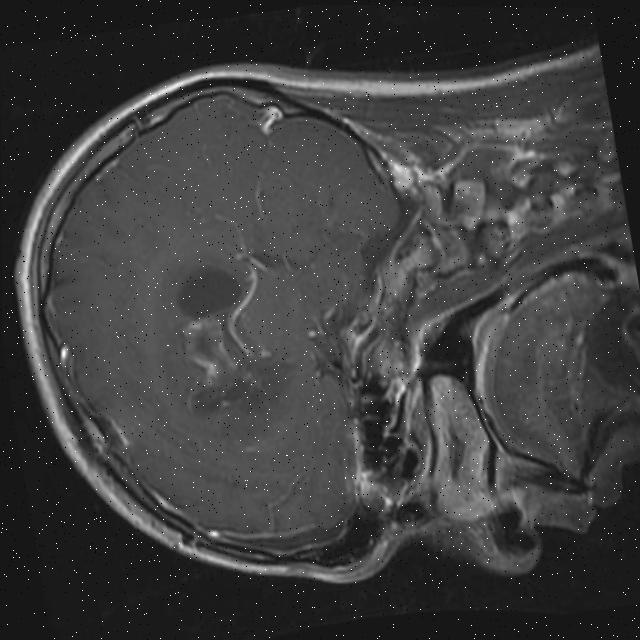Glioma: (172, 310, 252, 422)
